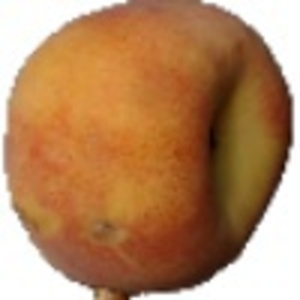pêssego: (1, 1, 295, 300)
